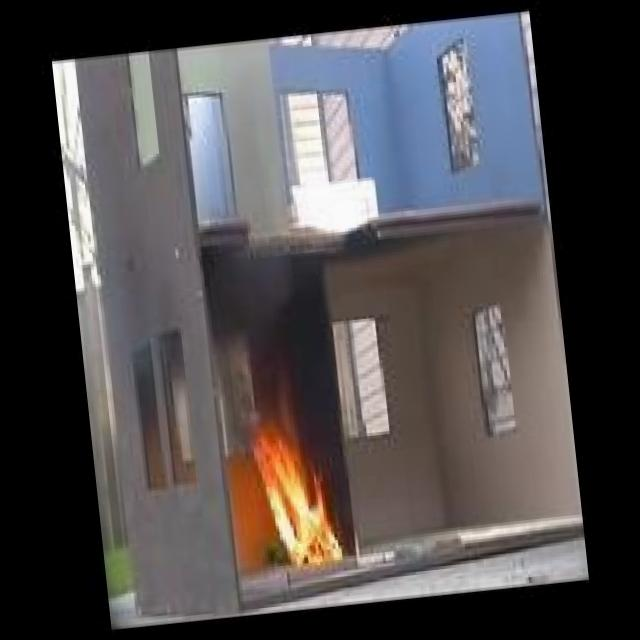fire: (238, 406, 356, 588)
